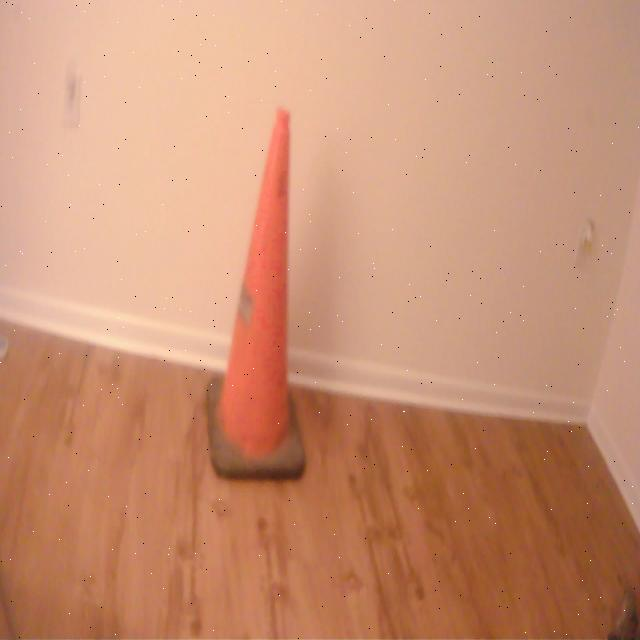traffic cone: (200, 102, 315, 487)
